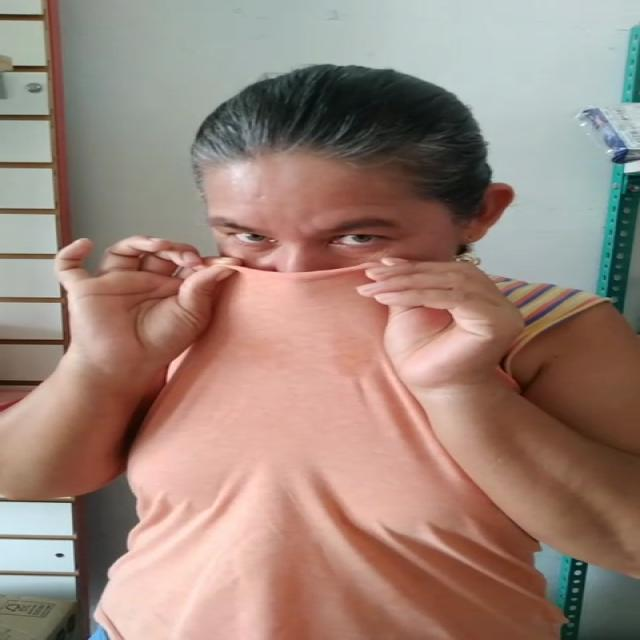8_ropa_rostro: (131, 240, 493, 398)
